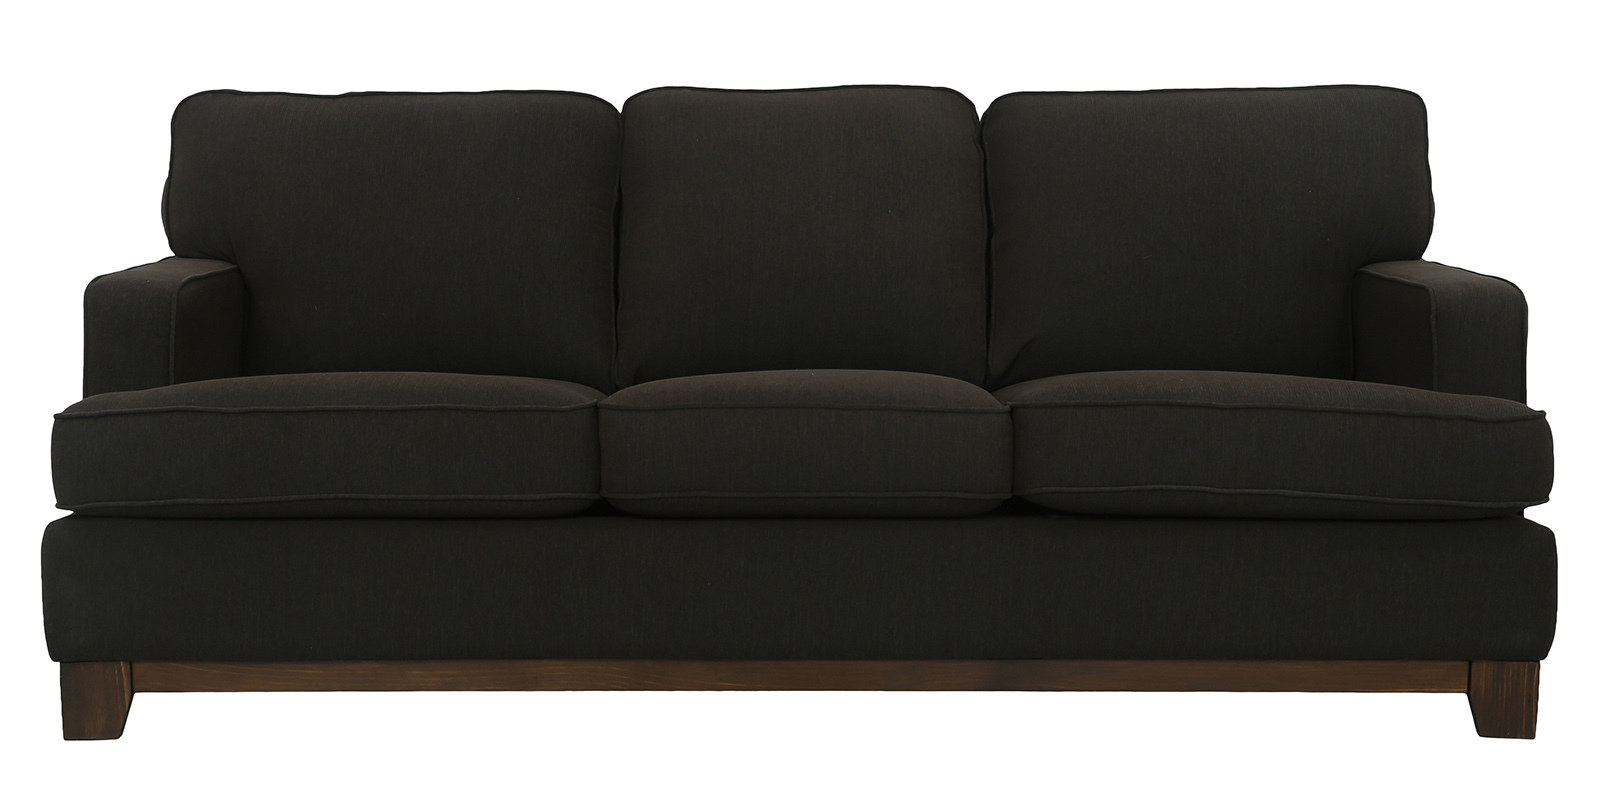Parana Three Seater Sofa in Chestnut Brown Color by CasaCraft: (39, 83, 1557, 739)
